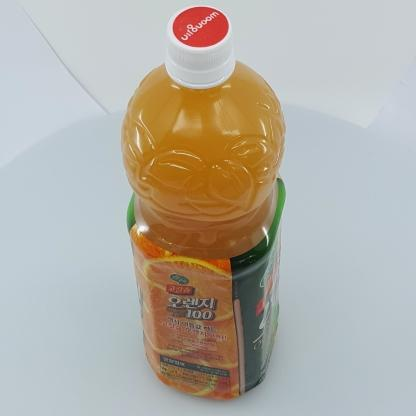--------1-5L: (121, 5, 286, 401)
